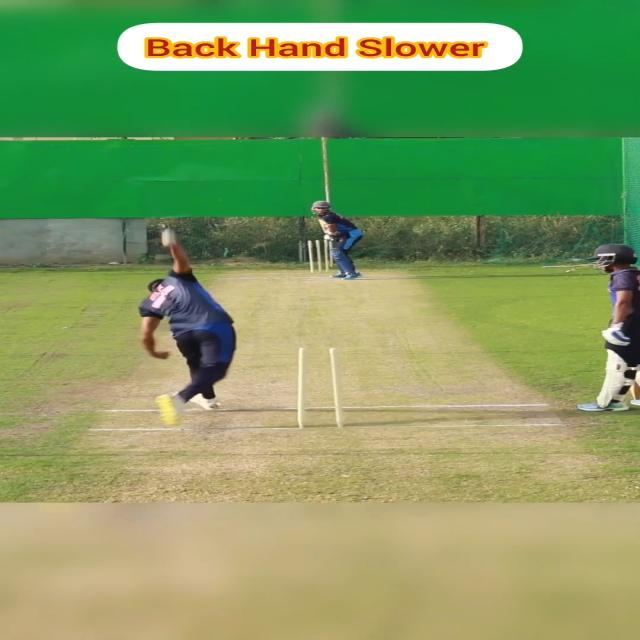stump: (296, 346, 343, 429), (305, 240, 331, 274)
